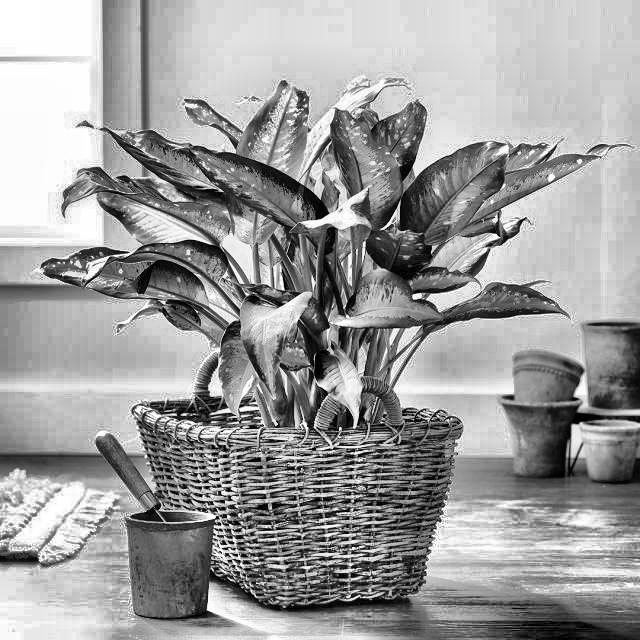plants: (92, 108, 550, 604)
